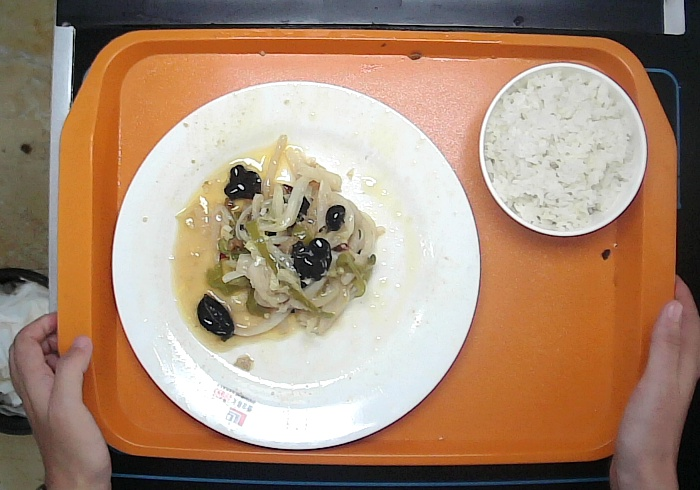ZNLD-Da_Yuan_Pan: (110, 79, 481, 451)
ZNLD-Fan_Wan: (476, 61, 649, 238)
